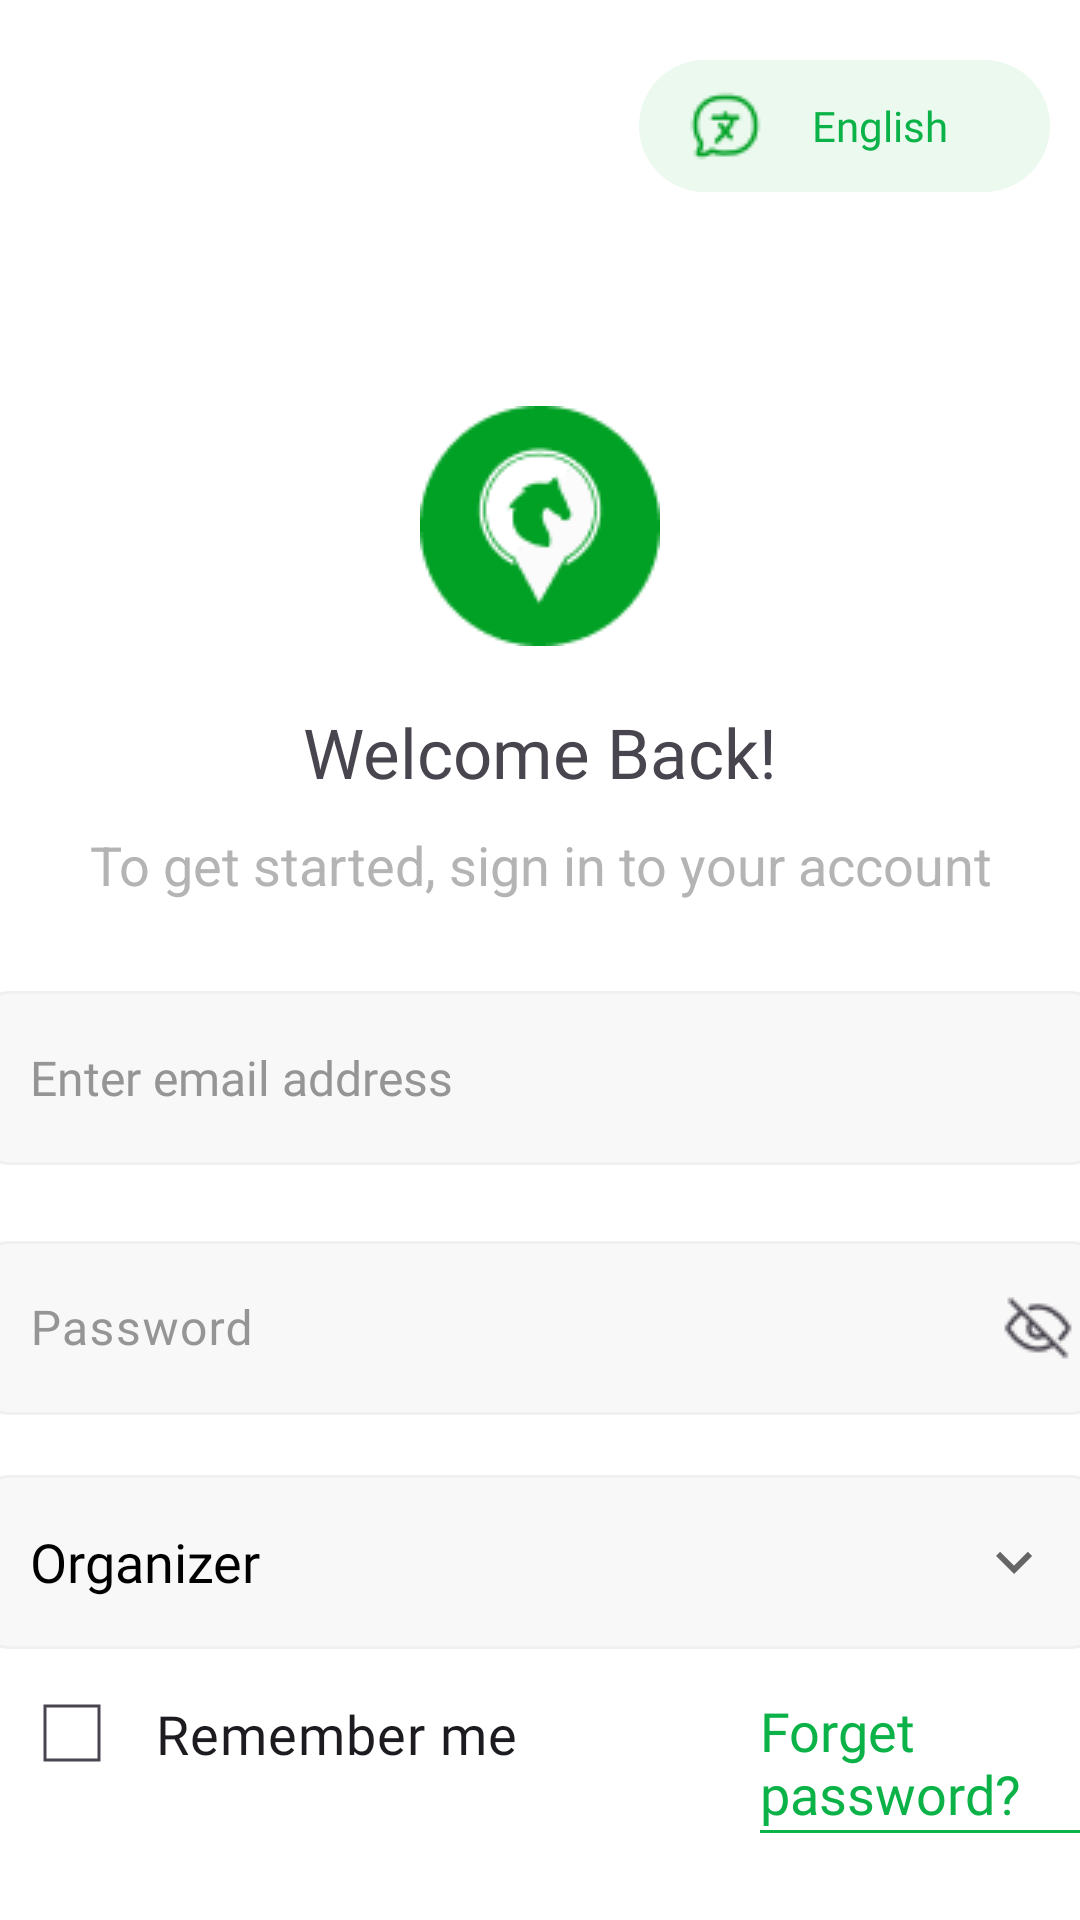

Locate icon controls on the screen. Image size 1080w x 1920h, boxes as (x1, y1, x2, y2).
message translate: (691, 93, 760, 159)
